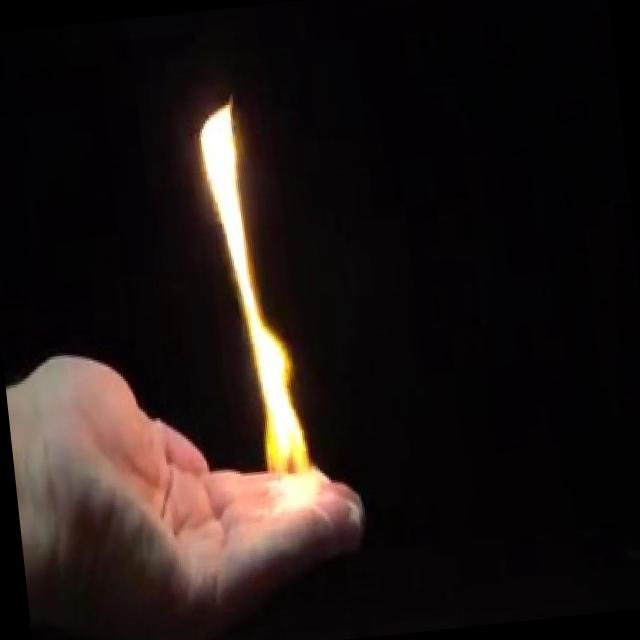Fire: (188, 80, 331, 525)
